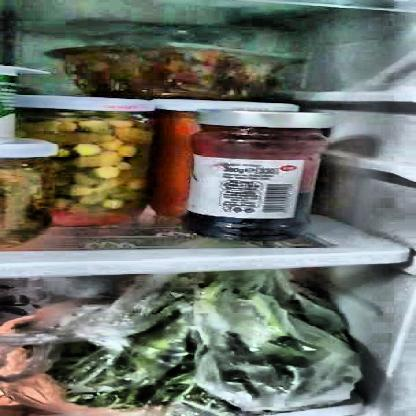lettuce: (44, 278, 360, 406)
